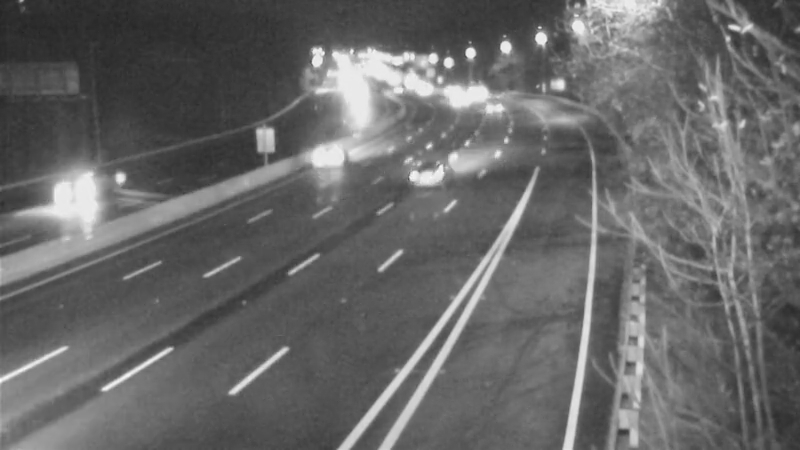vehicle: (296, 117, 376, 197), (382, 135, 462, 215), (34, 147, 114, 227), (453, 67, 503, 117), (427, 71, 477, 121), (467, 78, 517, 128)
